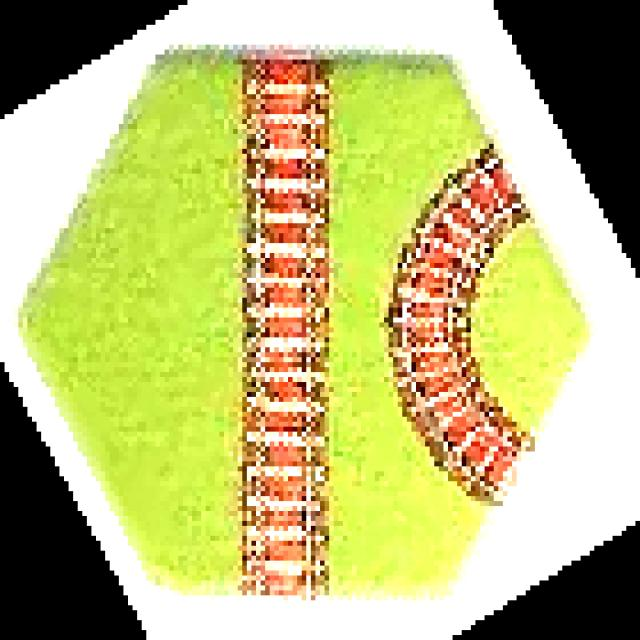4_2: (21, 47, 581, 598)
